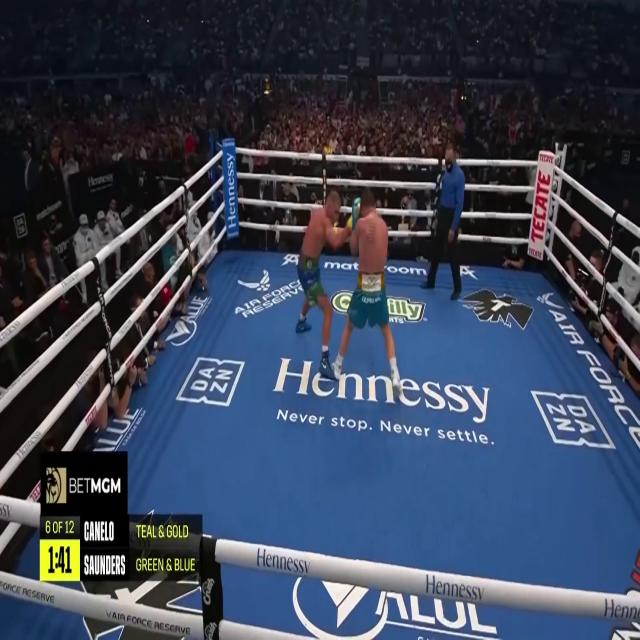boxer_1: (301, 190, 341, 258)
boxer_2: (358, 190, 388, 273)
gloves_1: (345, 217, 353, 238), (333, 228, 339, 234)
gloves_2: (352, 199, 361, 230)
